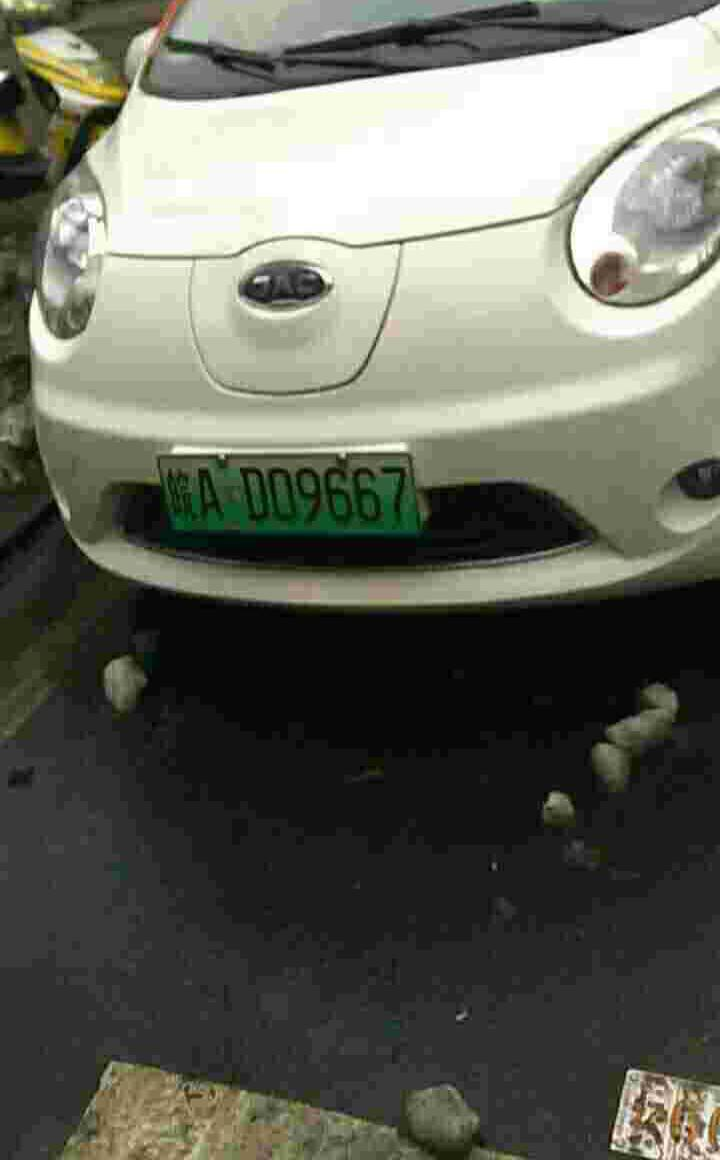car_green: (154, 441, 428, 548)
